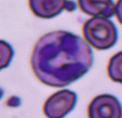N: (31, 29, 90, 86)
